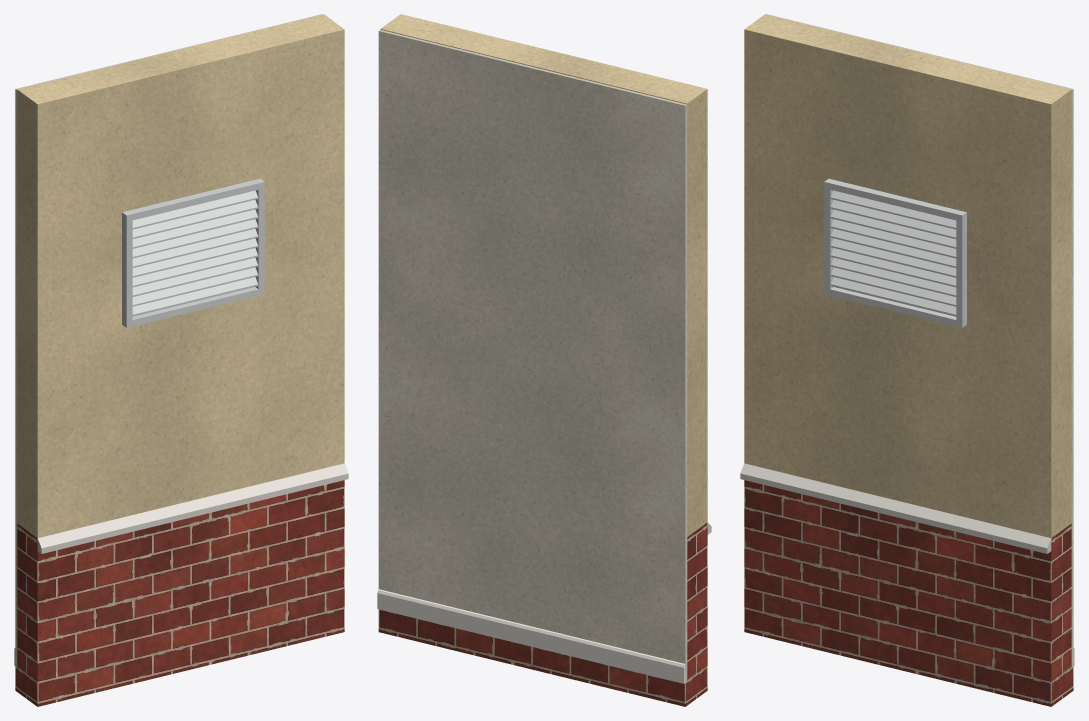
File: w_louver.glb
The picture shows the model from 3 angles, left to right: view 1: azimuth 30°, elevation 25°; view 2: azimuth 150°, elevation 25°; view 3: azimuth 330°, elevation 25°; orthographic projection.
Parts seen in each view (by area): view 1: w_louver_render, w_louver_brick, w_louver_unit, w_louver_cill, w_louver_plaster; view 2: w_louver_plaster, w_louver_render, w_louver_brick, w_louver_trim; view 3: w_louver_render, w_louver_brick, w_louver_unit, w_louver_cill, w_louver_plaster.
Part boxes in pixels (x1,y1,x2,y2): w_louver_render: (17, 14, 344, 537); w_louver_brick: (15, 480, 344, 706); w_louver_unit: (122, 178, 264, 327); w_louver_cill: (37, 463, 348, 553); w_louver_plaster: (15, 14, 322, 667); w_louver_plaster: (378, 29, 687, 682); w_louver_render: (380, 14, 707, 536); w_louver_brick: (378, 522, 707, 706); w_louver_trim: (377, 589, 685, 683); w_louver_render: (744, 14, 1071, 537); w_louver_brick: (744, 480, 1073, 706); w_louver_unit: (824, 178, 966, 327); w_louver_cill: (740, 463, 1051, 553); w_louver_plaster: (766, 14, 1073, 667).
Size of the model in its own units: 2 by 3.75 by 0.316.
Materials: 6 (3 with a texture image).
